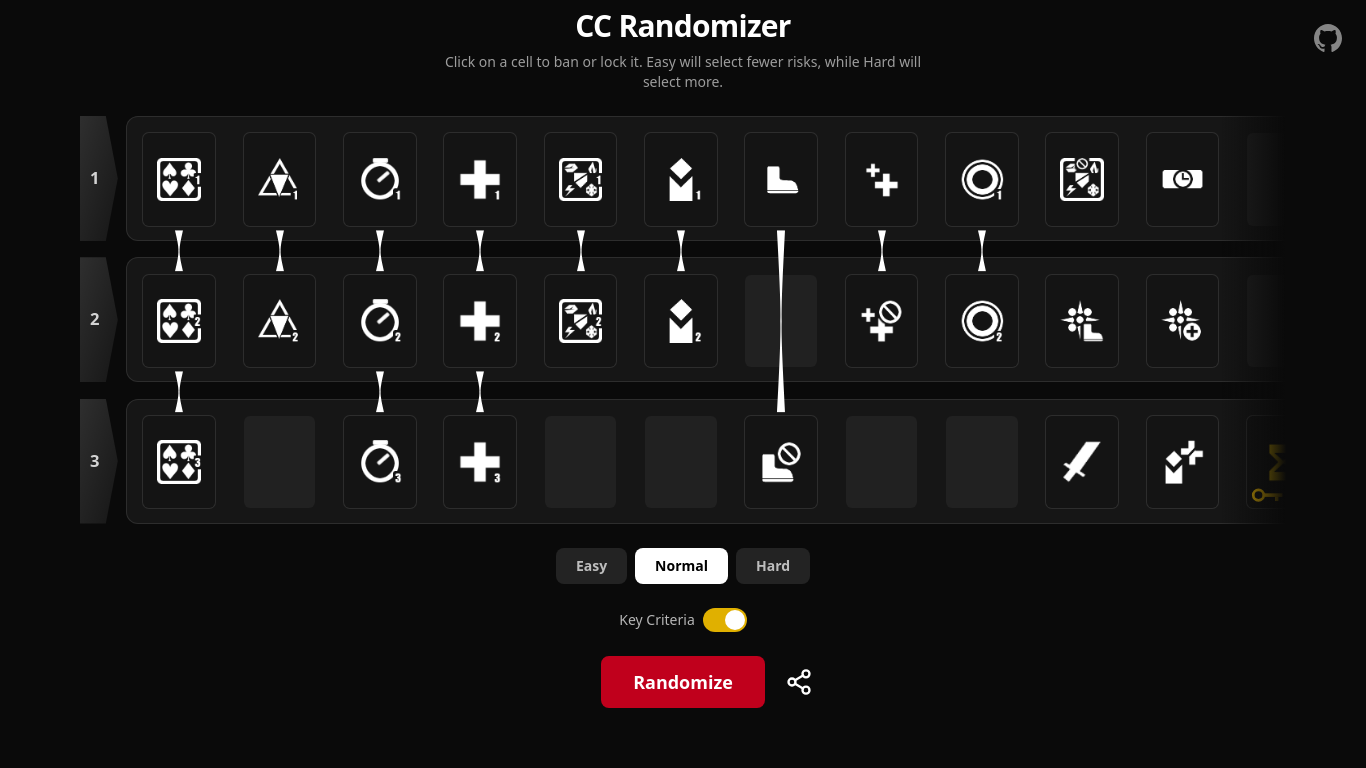
Scenario: App › does not show the Reset tooltip again after reset until re-hovered
Click the button "Randomize" at (683, 682), box [601, 656, 765, 708]
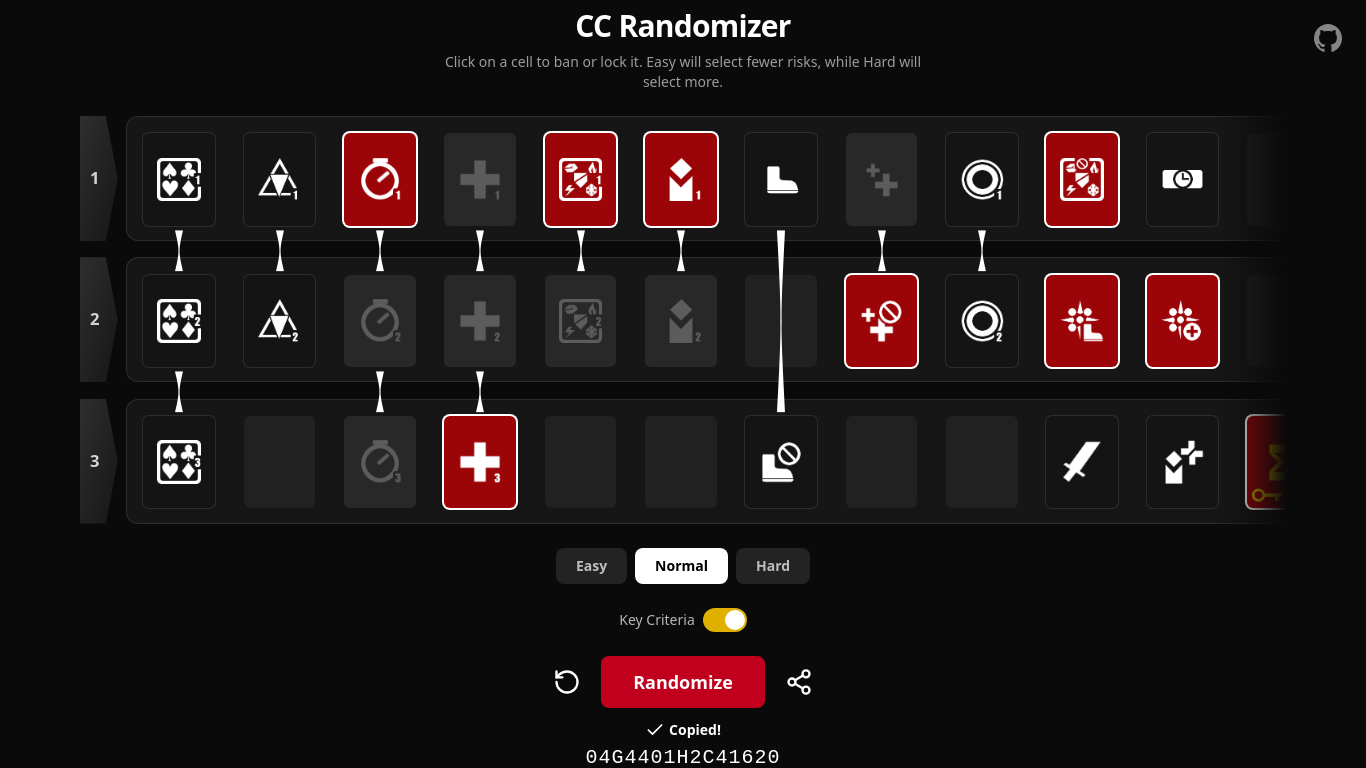
Hover over the button named "Reset" at (567, 682), box [553, 668, 581, 696]
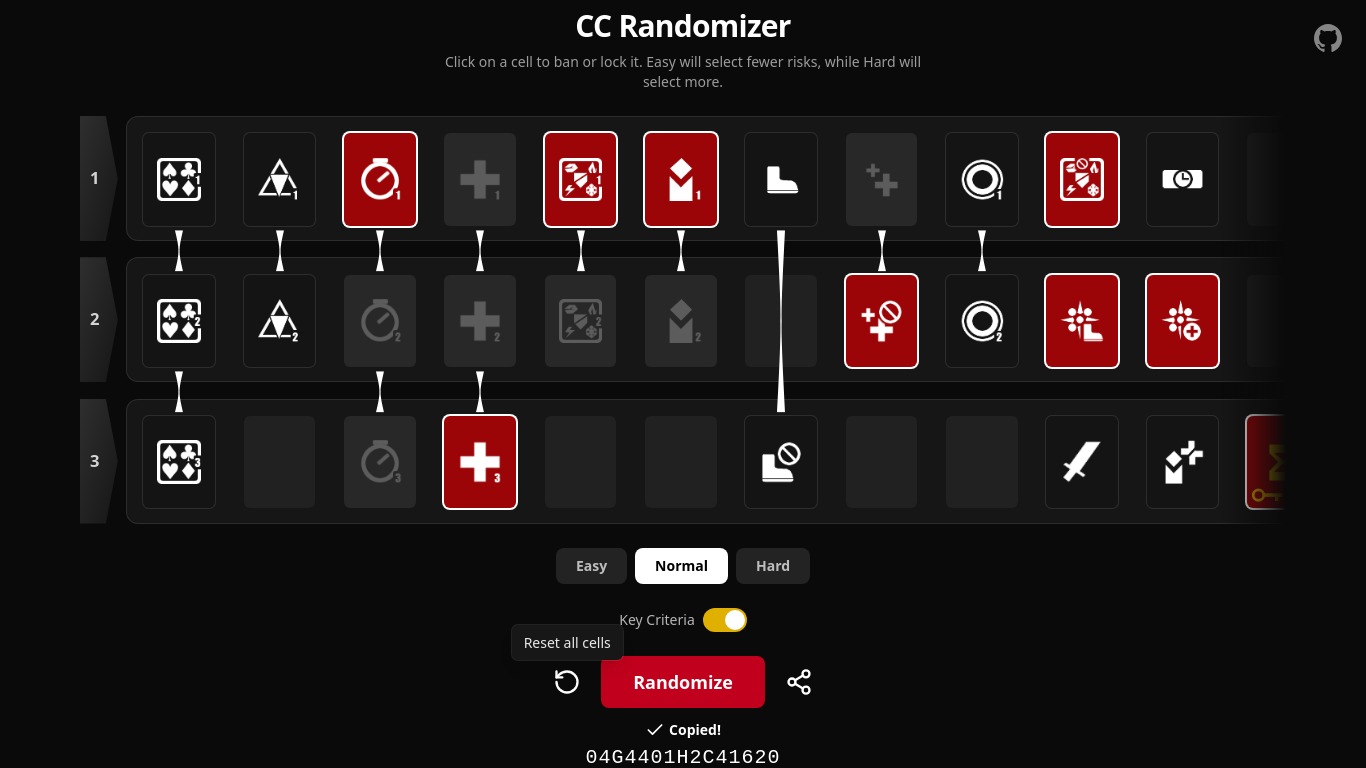
Check: the tooltip reads "Reset all cells", box [524, 632, 611, 652]
Click the button named "Reset" at (567, 682), box [553, 668, 581, 696]
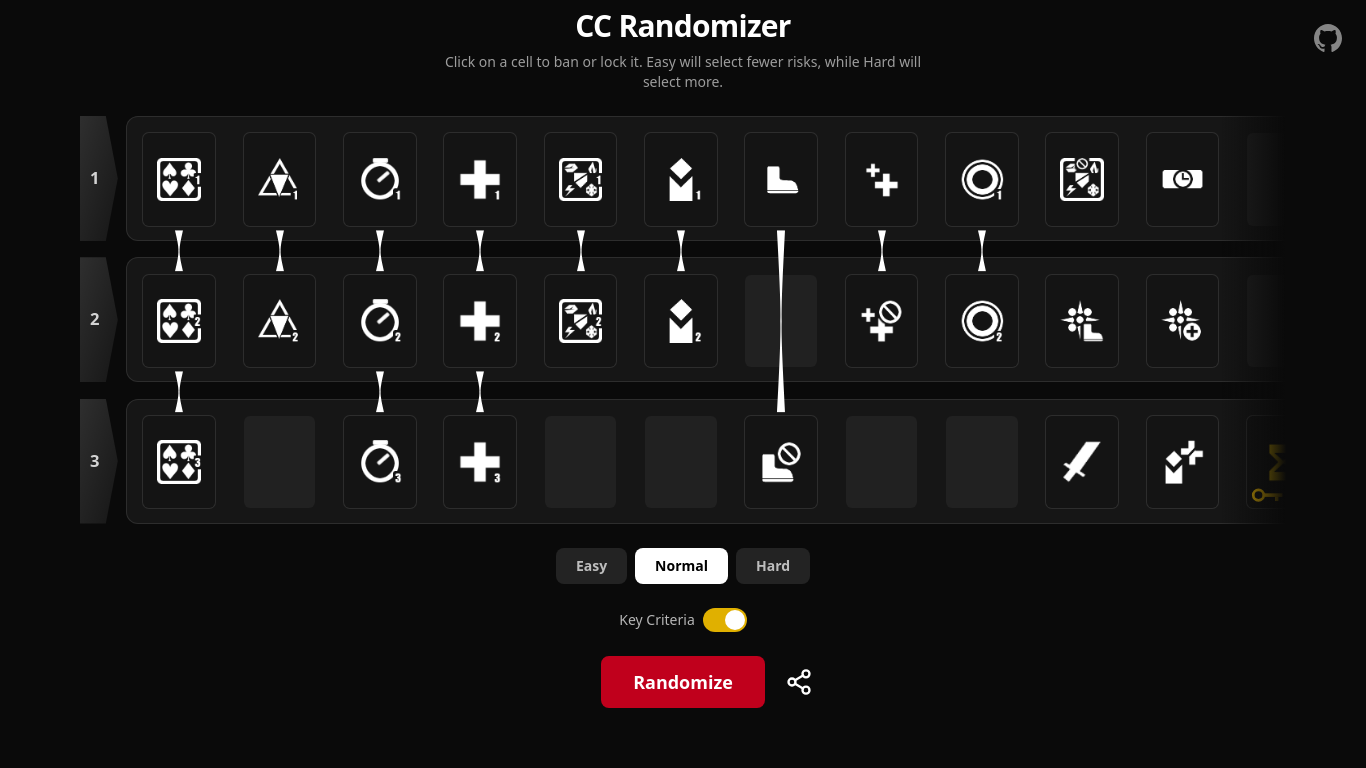
Check: the tooltip "Reset" is gone
Check: the tooltip "Reset all cells" is gone
Click the button "Randomize" at (683, 682), box [601, 656, 765, 708]
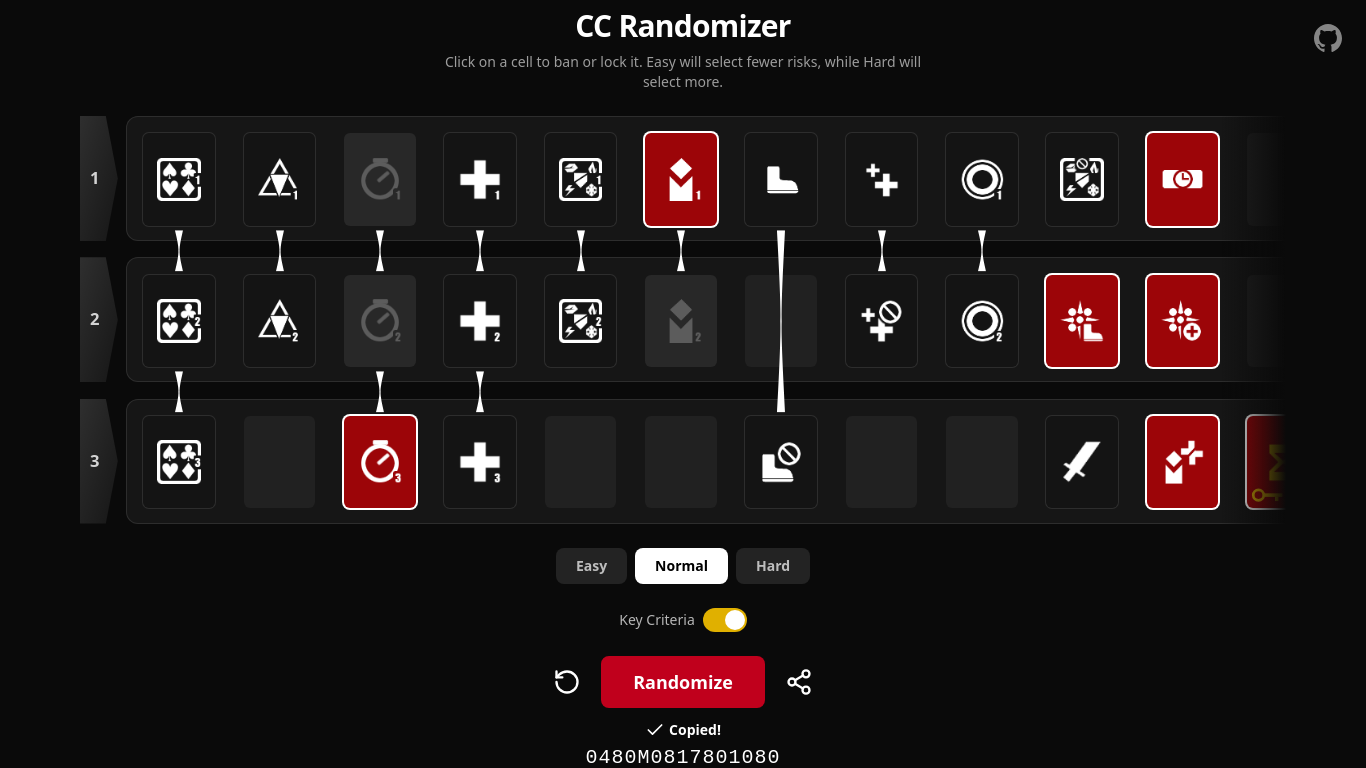
Check: the tooltip "Reset all cells" is not shown
Check: the button named "Reset" is shown, box [553, 668, 581, 696]
